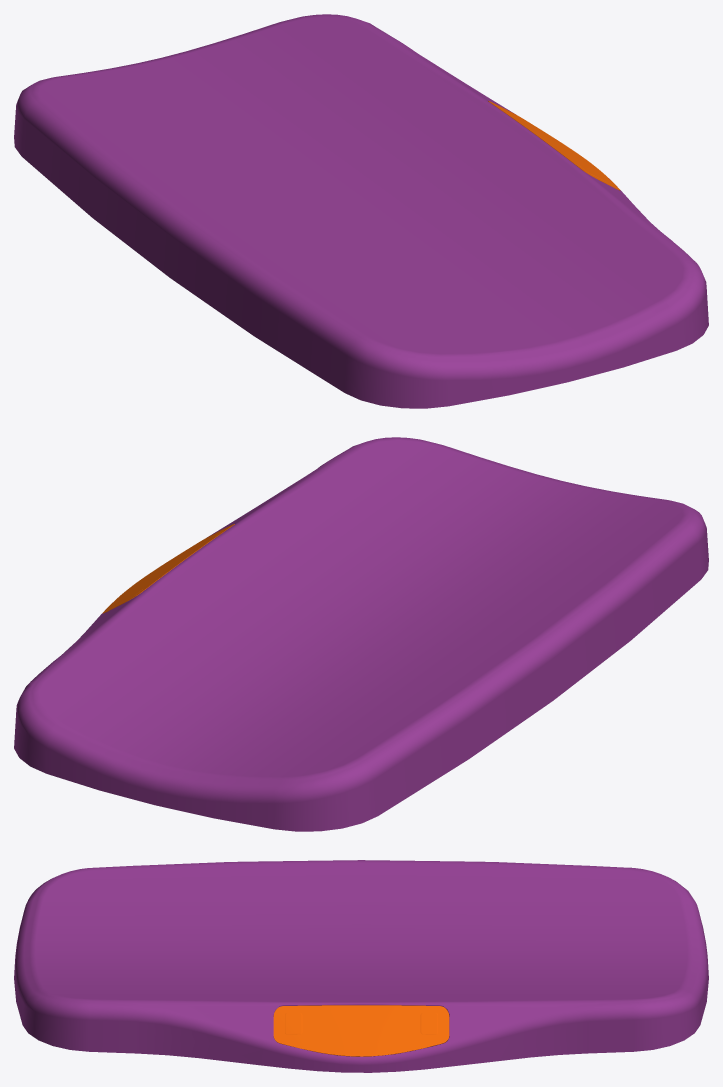
3 views of the same model, one above another, from view 1: azimuth 30°, elevation 25°; view 2: azimuth 150°, elevation 25°; view 3: azimuth 270°, elevation 25° (orthographic). The views are drawn at different scales.
Visible parts, largest first — view 1: Object011; view 2: Object011; view 3: Object011.
Part boxes in pixels (x1=…): Object011: x1=14, y1=14, x2=708, y2=408; Object011: x1=14, y1=437, x2=708, y2=831; Object011: x1=14, y1=860, x2=708, y2=1072.
Bounding box in the file's own units: 32.98 × 5.02 × 56.
